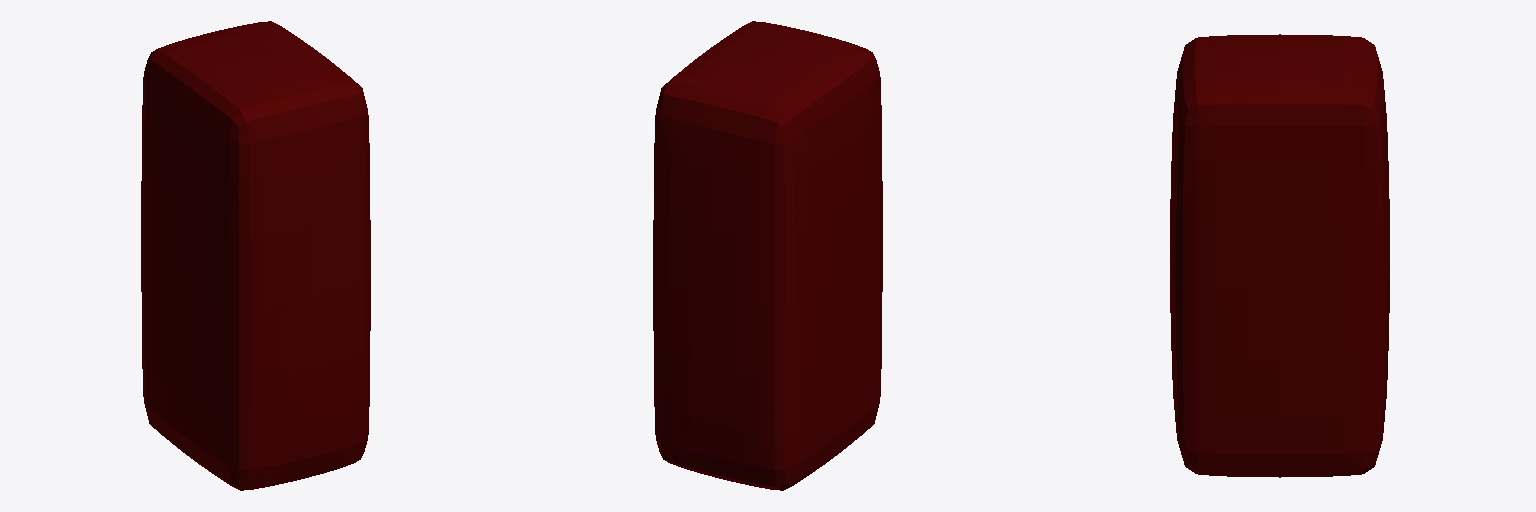
Rendered from arm1.obj.
3 renders of one model, left to right at view 1: azimuth 30°, elevation 25°; view 2: azimuth 150°, elevation 25°; view 3: azimuth 270°, elevation 25°, orthographic.
Parts seen in each view (by area): view 1: polySurface11 pCube15; view 2: polySurface11 pCube15; view 3: polySurface11 pCube15.
Boxes of the visible parts, <box> form: polySurface11 pCube15: <box>141,21,370,490</box>; polySurface11 pCube15: <box>653,21,882,490</box>; polySurface11 pCube15: <box>1170,34,1389,477</box>.
Size of the model in its own units: 0.76 by 1.96 by 0.9908.